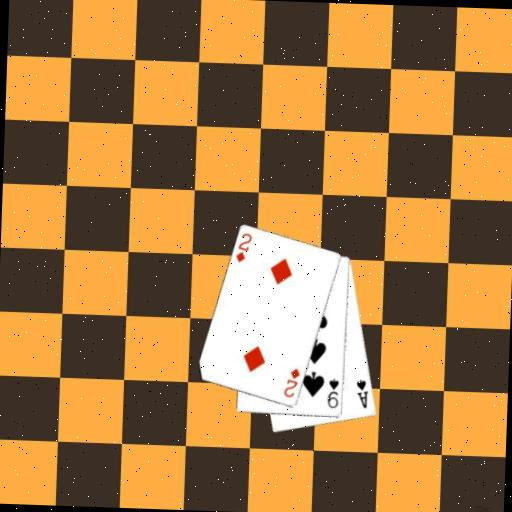2D: (280, 365, 301, 400), (233, 230, 254, 264)
9S: (324, 375, 340, 410)
AS: (353, 377, 371, 410)
